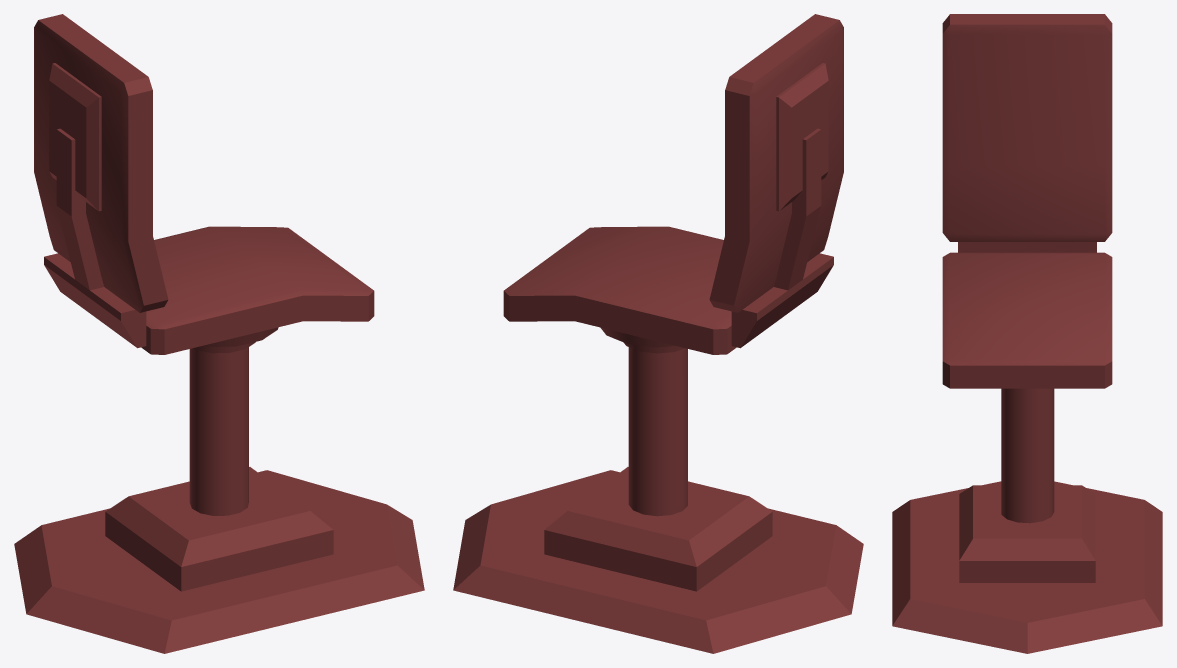
Rendered from SillaMandos.fbx.
3 renders of one model, left to right at view 1: azimuth 30°, elevation 25°; view 2: azimuth 150°, elevation 25°; view 3: azimuth 270°, elevation 25°, orthographic. The views are drawn at different scales.
Visible parts, largest first — view 1: Cube.010; view 2: Cube.010; view 3: Cube.010.
Part boxes in pixels (<box>): Cube.010: <box>14,14,424,653</box>; Cube.010: <box>453,14,863,653</box>; Cube.010: <box>892,14,1162,653</box>.
Size of the model in its own units: 86.62 by 118 by 58.36.
